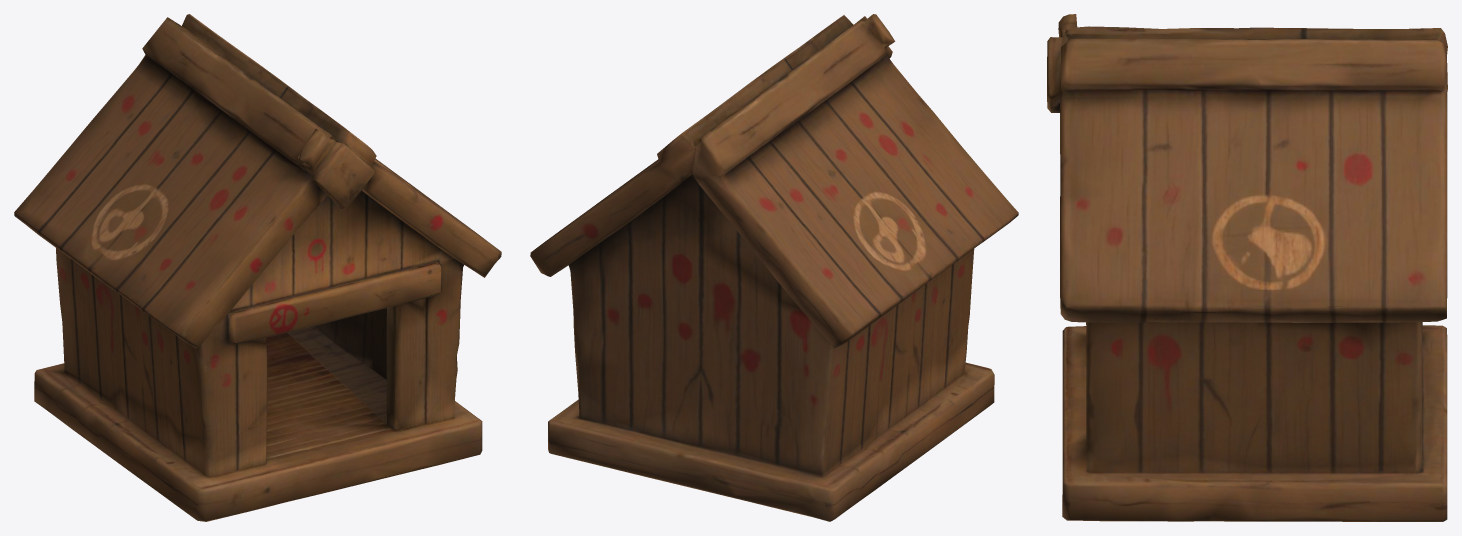
Rendered from Radioactive_Doghouse_0405085148_texture.fbx.
The picture shows the model from 3 angles, left to right: view 1: azimuth 30°, elevation 25°; view 2: azimuth 150°, elevation 25°; view 3: azimuth 270°, elevation 25°; orthographic projection. The views are drawn at different scales.
Visible parts, largest first — view 1: Mesh1; view 2: Mesh1; view 3: Mesh1.
Boxes of the visible parts, x1=… form: Mesh1: x1=14, y1=14, x2=501, y2=521; Mesh1: x1=530, y1=14, x2=1018, y2=521; Mesh1: x1=1047, y1=14, x2=1447, y2=521.
Bounding box in the file's own units: 189 × 200 × 174.
1 material, 1 textured.
